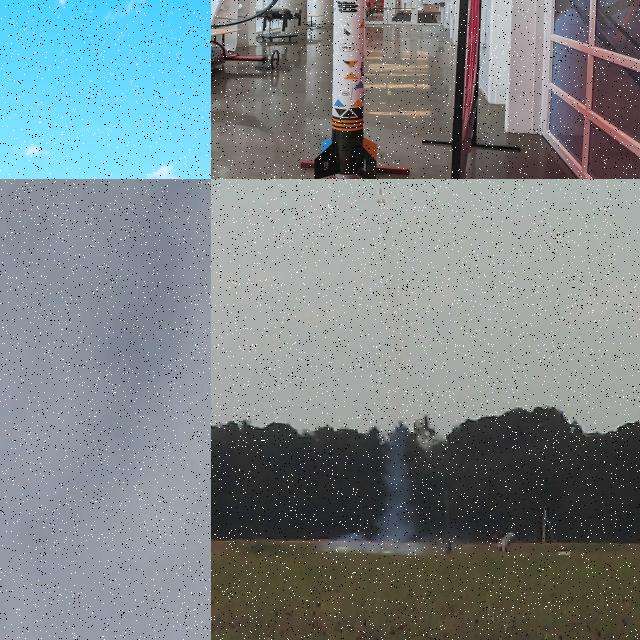Rocket: (314, 0, 377, 179), (374, 179, 386, 205)
